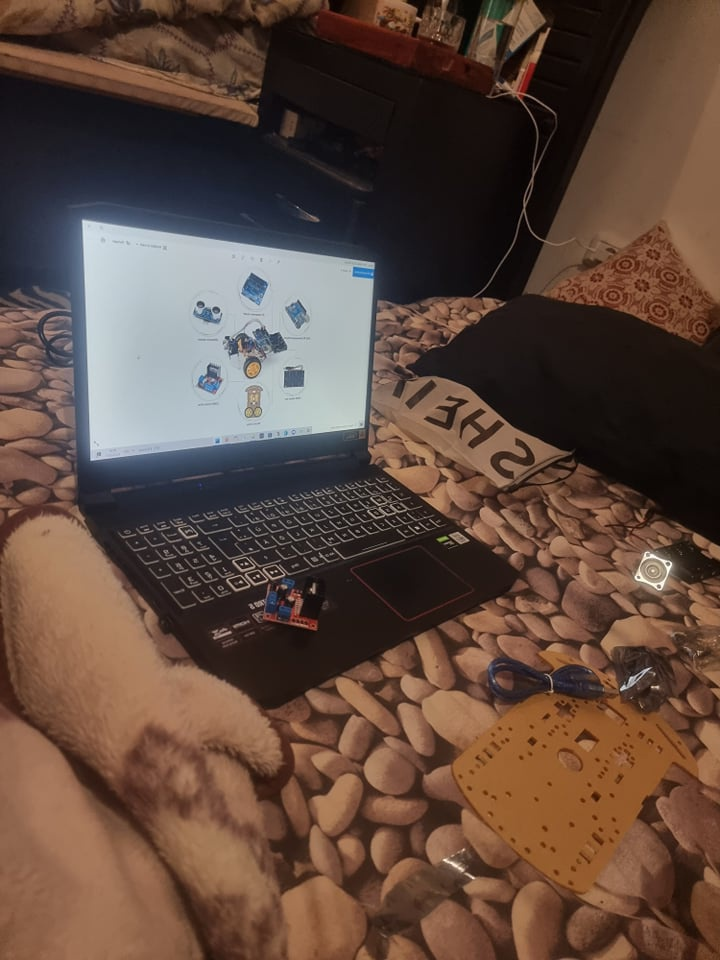5V EXPANSION: (241, 272, 269, 305)
BATTERY BOX: (664, 535, 719, 588), (284, 371, 306, 388)
MOTOR: (260, 569, 331, 631), (194, 363, 225, 395)
SENSOR: (191, 303, 224, 323)
UNO R3: (285, 299, 312, 330)
